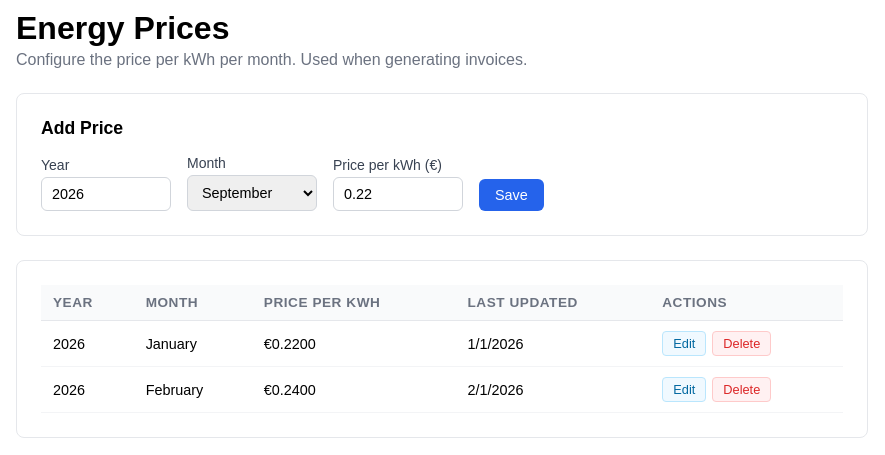
Scenario: EnergyPrices.vue › resets form when clicking Cancel
Click the button with class "btn-edit" in the row of "January" at (684, 344), box [662,331,706,356]
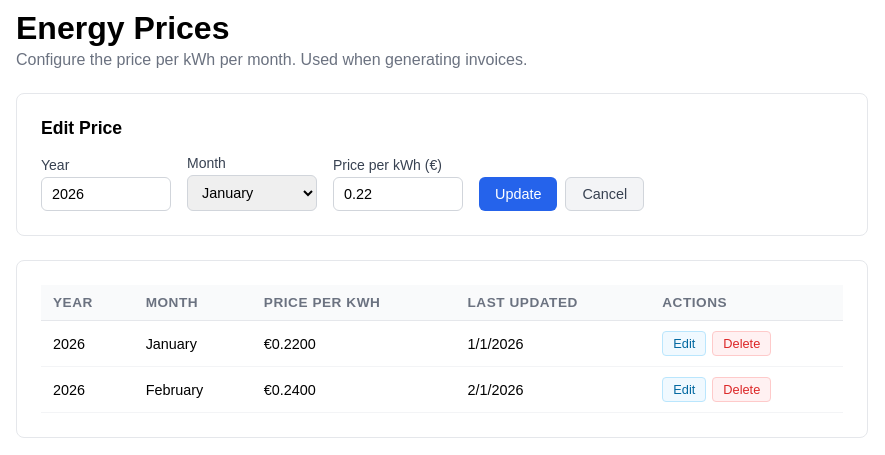
Now the heading "Edit Price" is shown, box [41,118,122,138]
Click the button "Cancel" at (605, 194), box [565,177,644,211]
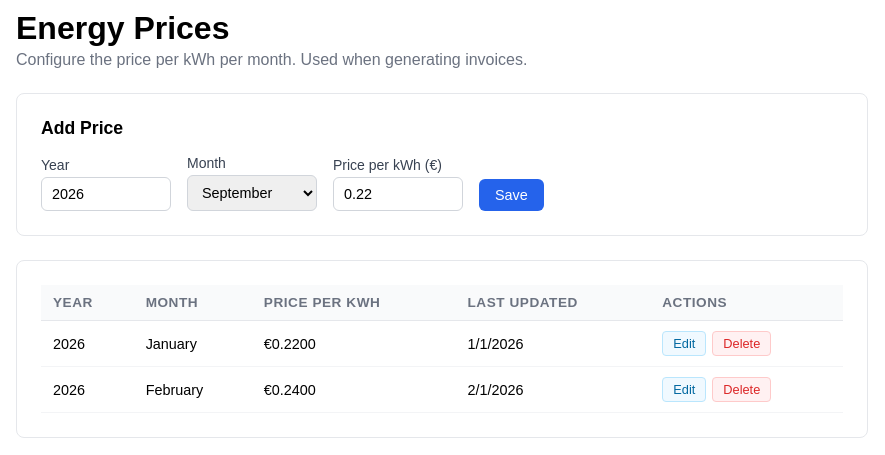
Now the heading "Add Price" is shown, box [41,118,123,138]
